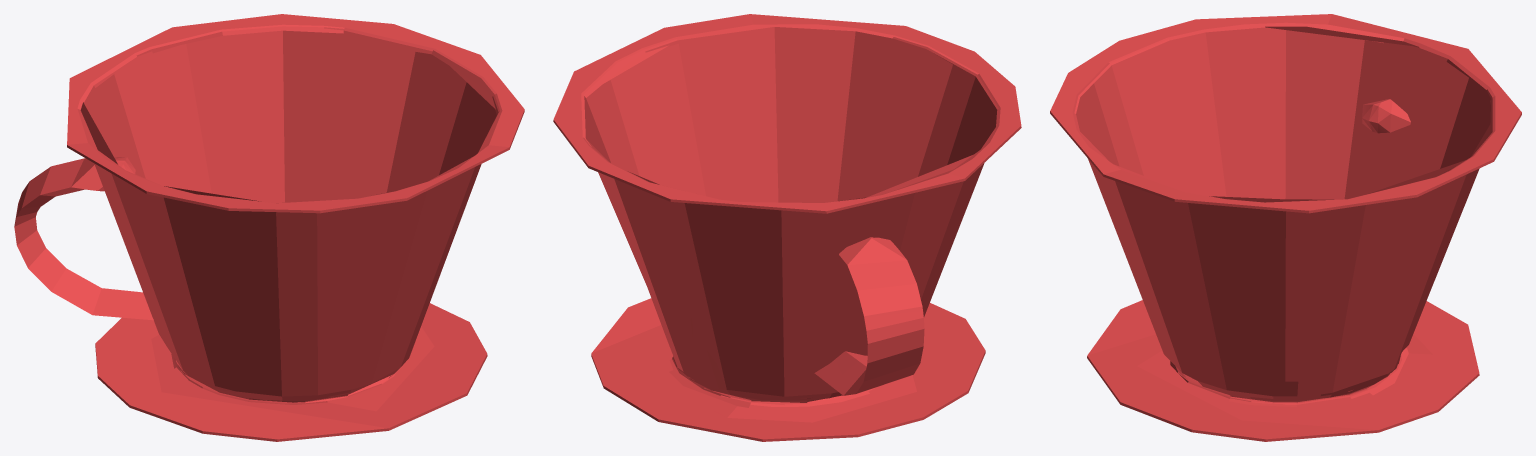
Rendered from Filter.fbx.
3 renders of one model, left to right at view 1: azimuth 30°, elevation 25°; view 2: azimuth 150°, elevation 25°; view 3: azimuth 270°, elevation 25°, orthographic.
Parts seen in each view (by area): view 1: r.0006, s.0011; view 2: r.0006, s.0011; view 3: r.0006, s.0011.
Boxes of the visible parts, <box> form: r.0006: <box>67,14,524,441</box>; s.0011: <box>14,157,153,320</box>; r.0006: <box>553,14,1021,441</box>; s.0011: <box>814,237,924,395</box>; r.0006: <box>1050,14,1521,441</box>; s.0011: <box>1362,99,1410,133</box>.
Size of the model in its own units: 16.79 by 9.87 by 16.74.
